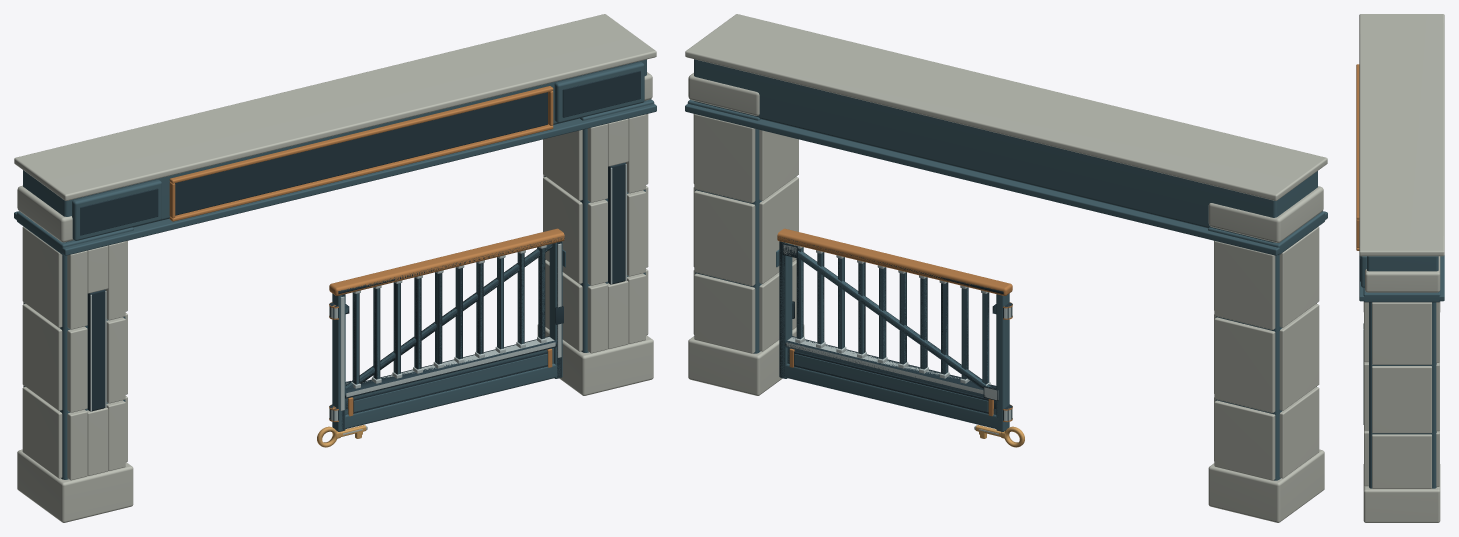
The model's file is coaster-gate.glb.
The picture shows the model from 3 angles, left to right: view 1: azimuth 30°, elevation 25°; view 2: azimuth 150°, elevation 25°; view 3: azimuth 270°, elevation 25°; orthographic projection. The views are drawn at different scales.
Visible parts, largest first — view 1: GateStaticSurfaces, GateLeafSurfaces, GateLeafShadowSurfaces; view 2: GateStaticSurfaces, GateLeafSurfaces, GateLeafShadowSurfaces; view 3: GateStaticSurfaces.
Boxes of the visible parts, left/top/right/bottom form: GateStaticSurfaces: left=14, top=14, right=656, bottom=522; GateLeafSurfaces: left=329, top=228, right=564, bottom=431; GateLeafShadowSurfaces: left=329, top=237, right=564, bottom=429; GateStaticSurfaces: left=685, top=14, right=1327, bottom=522; GateLeafSurfaces: left=777, top=228, right=1012, bottom=431; GateLeafShadowSurfaces: left=778, top=237, right=1012, bottom=421; GateStaticSurfaces: left=1356, top=14, right=1444, bottom=522.
Bounding box in the file's own units: 13.2 × 7.26 × 2.07.
